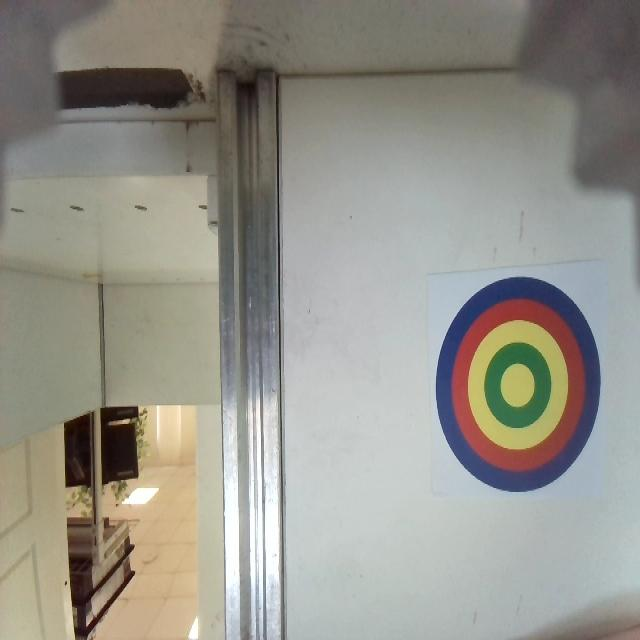cogn: (433, 272, 601, 494)
